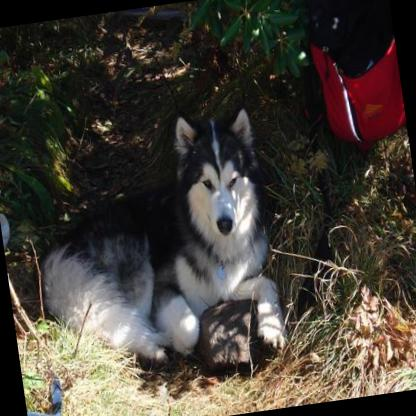malamute: (19, 98, 294, 382)
